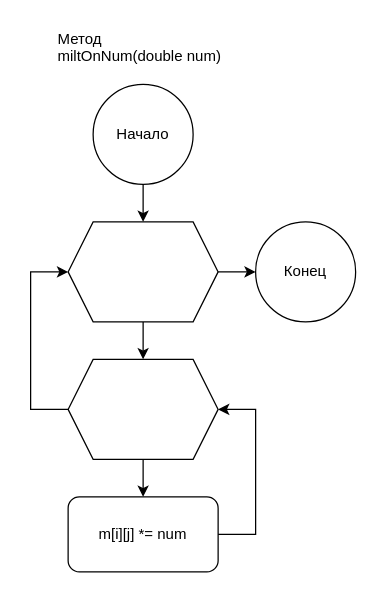
The diagram is 378 pixels wide and 594 high, and some of its shapes have lost their labels. The centre of each missing label's shape, as x and y in pixels:
i = 0; i < rows; i++: (x=142, y=271)
j = 0; j < rows; j++: (x=142, y=408)
